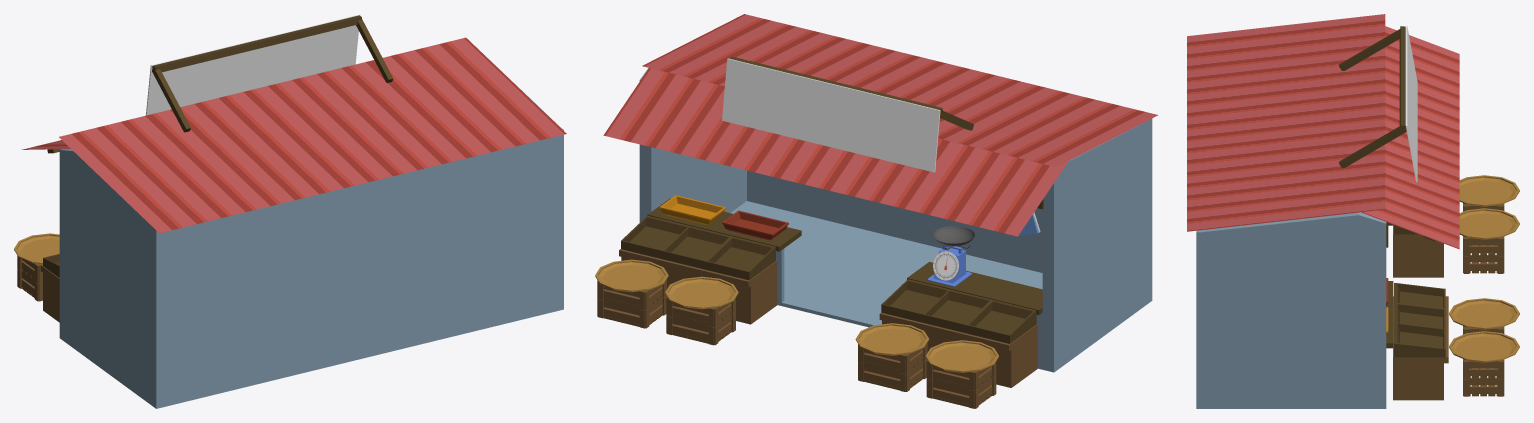
File: gulayanlabas2.fbx
The picture shows the model from 3 angles, left to right: view 1: azimuth 30°, elevation 25°; view 2: azimuth 150°, elevation 25°; view 3: azimuth 270°, elevation 25°; orthographic projection. The views are drawn at different scales.
Visible parts, largest first — view 1: gulayanlabas2, Plane, stallname, Cube.498, Cube.499, bilao, woodcrates, LongTable1.003; view 2: gulayanlabas2, Plane.001, Plane, stallname, Container.004, Container.003, woodcrates, woodcrates.001, bilao, bilao.001, Plane.043, LongTable1.001 (+7 smaller); view 3: Plane, gulayanlabas2, Plane.001, Container.003, bilao.001, bilao, LongTable1.001, LongTable1.003, woodcrates.001, woodcrates, stallname, Cube.499 (+2 smaller).
Part boxes in pixels (x1,y1,x2,y2): gulayanlabas2: (59, 52, 563, 408); Plane: (59, 37, 566, 233); stallname: (146, 14, 360, 115); Cube.498: (152, 15, 361, 72); Cube.499: (152, 19, 393, 132); bilao: (14, 233, 59, 264); woodcrates: (17, 255, 42, 301); LongTable1.003: (40, 264, 59, 322); gulayanlabas2: (639, 17, 1152, 372); Plane.001: (603, 68, 1068, 236); Plane: (642, 14, 1158, 166); stallname: (722, 58, 940, 172); Container.004: (881, 279, 1036, 343); Container.003: (621, 215, 775, 280); woodcrates: (858, 343, 996, 408); woodcrates.001: (597, 279, 735, 345); bilao: (855, 323, 998, 372); bilao.001: (595, 259, 738, 309); Plane.043: (647, 198, 1042, 314); LongTable1.001: (619, 249, 777, 324); Plane: (1187, 14, 1385, 231); gulayanlabas2: (1196, 212, 1386, 408); Plane.001: (1361, 26, 1459, 249); Container.003: (1394, 283, 1445, 357); bilao.001: (1449, 298, 1519, 362); bilao: (1459, 175, 1519, 239); LongTable1.001: (1393, 296, 1448, 400); LongTable1.003: (1393, 224, 1443, 277); woodcrates.001: (1463, 326, 1504, 396); woodcrates: (1463, 203, 1504, 273); stallname: (1405, 25, 1417, 182); Cube.499: (1339, 29, 1406, 168).
Size of the model in its own units: 10.95 by 6.15 by 7.85.
Materials: 16 (2 with a texture image).
